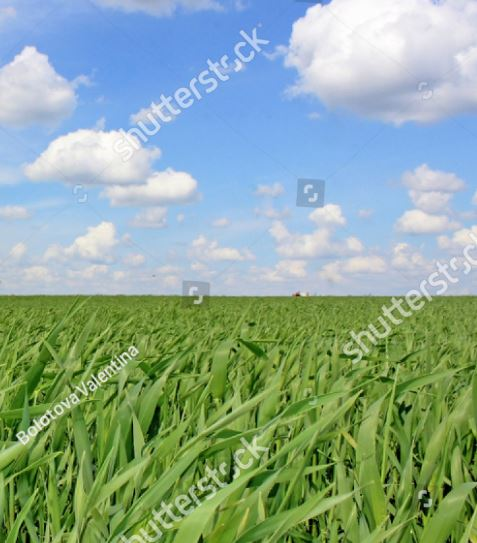Wheat: (80, 335, 438, 525)
